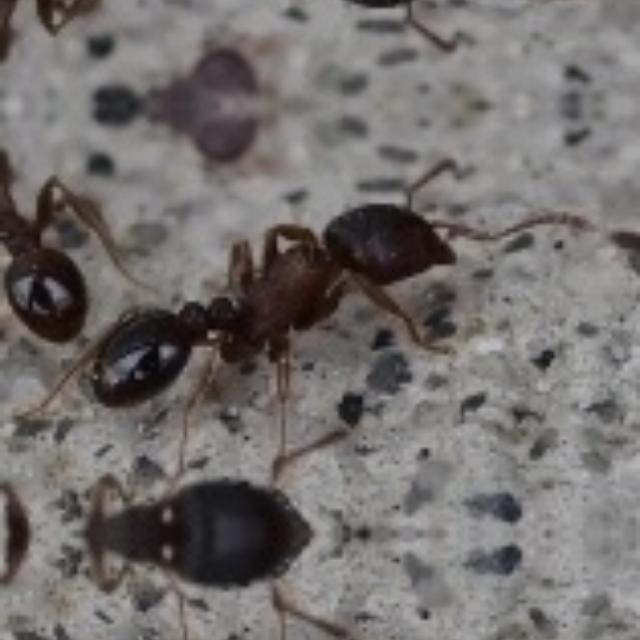Temnothorax: (59, 182, 522, 430), (0, 152, 112, 340), (0, 0, 112, 56)
